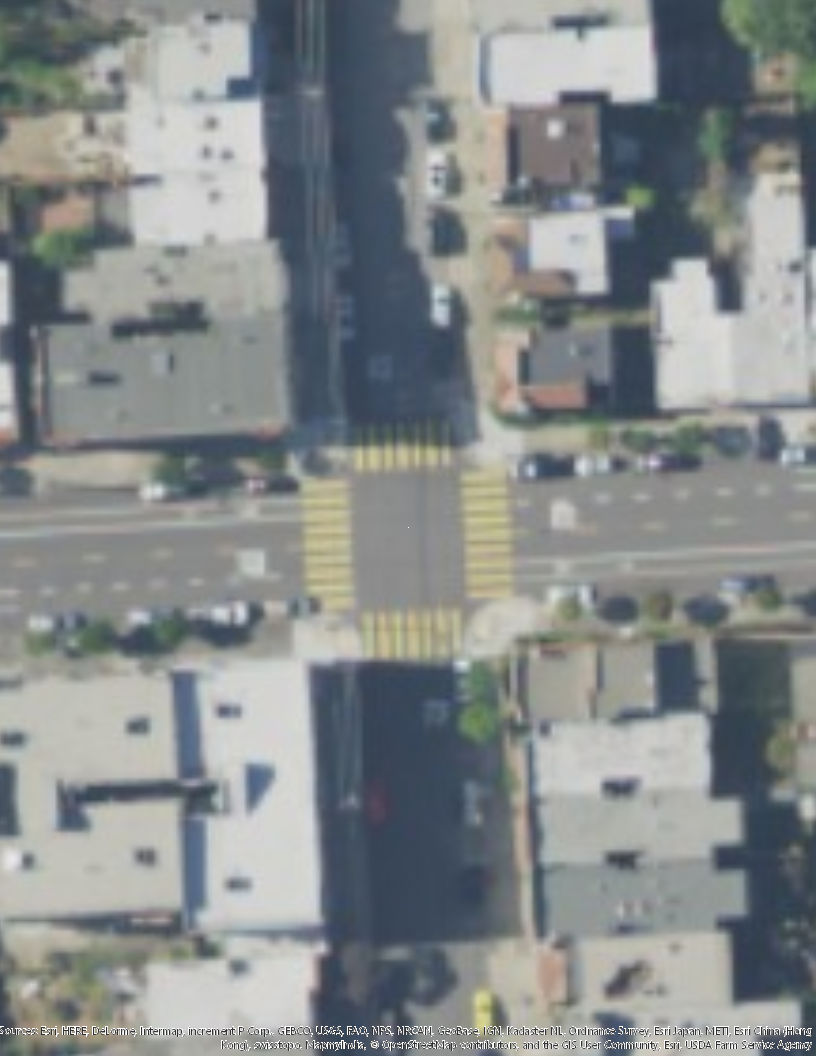zebracross: (297, 477, 358, 612), (457, 468, 515, 603), (365, 608, 461, 665), (355, 419, 453, 469)
